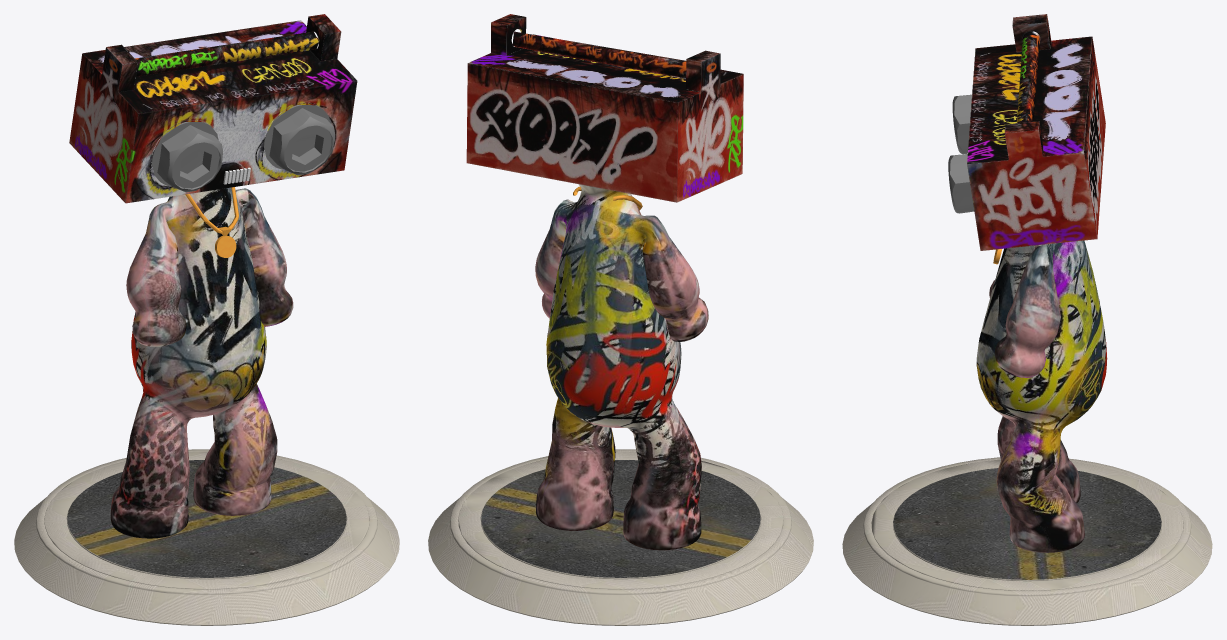
The picture shows the model from 3 angles, left to right: view 1: azimuth 30°, elevation 25°; view 2: azimuth 150°, elevation 25°; view 3: azimuth 270°, elevation 25°; orthographic projection. The views are drawn at different scales.
Bounding box in the file's own units: 1.45 × 2.12 × 1.45.
7 materials, 5 textured.
